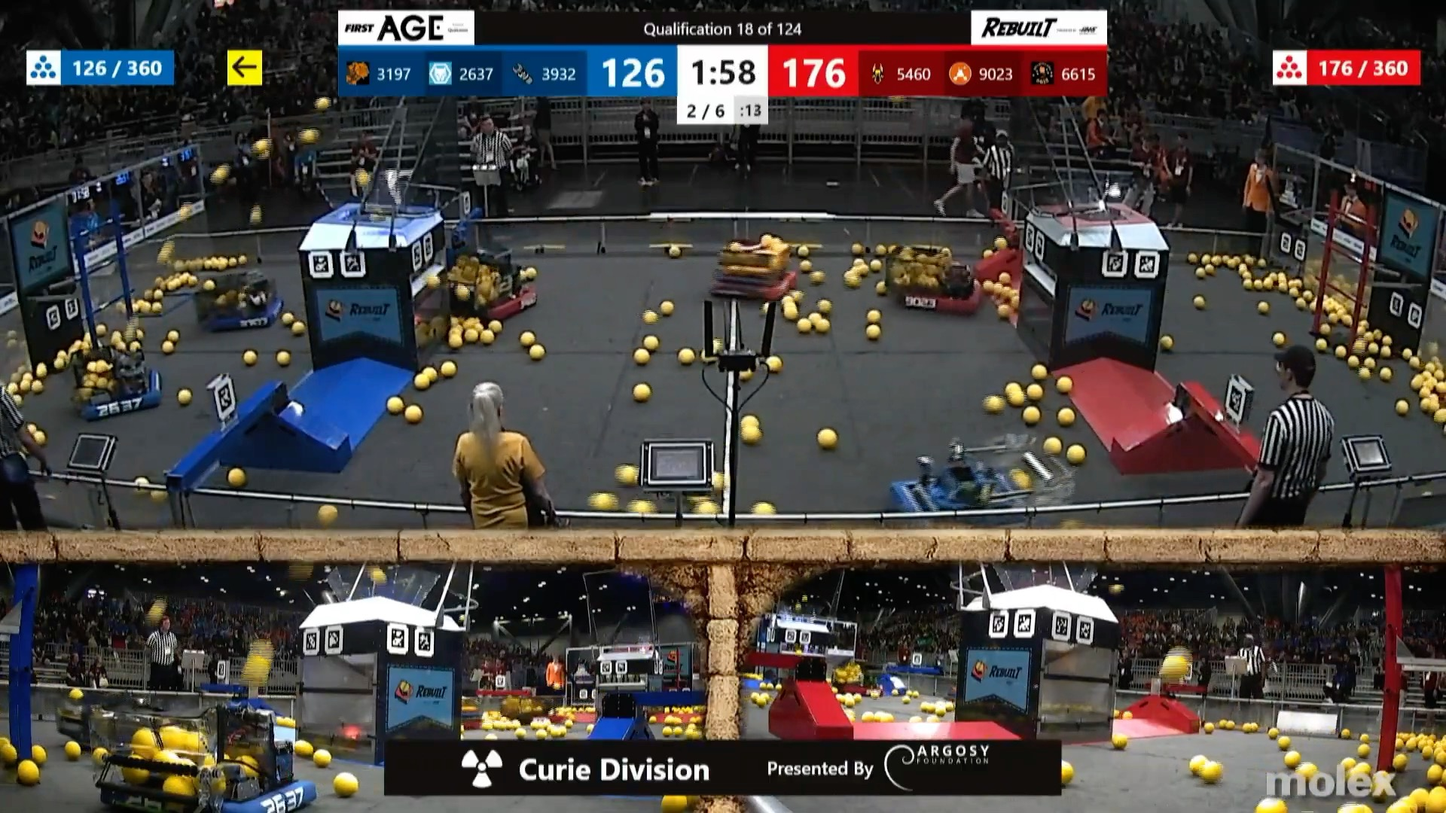bumpers: (105, 770, 322, 812), (56, 355, 181, 427), (189, 286, 301, 338), (887, 462, 1006, 510), (434, 279, 545, 325), (885, 276, 996, 321), (706, 271, 804, 306)
